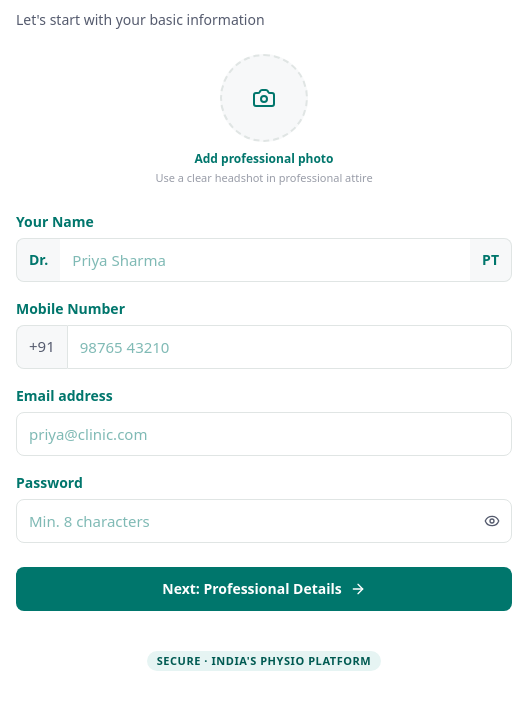
Test: DoctorSignupPage — v2 flag › step 1 Zod validation rejects empty name in v2 mode
The image size is (529, 711).
(page scrolled)
Click the button "Next: Professional Details": click(264, 588) x1=16 y1=566 x2=512 y2=610
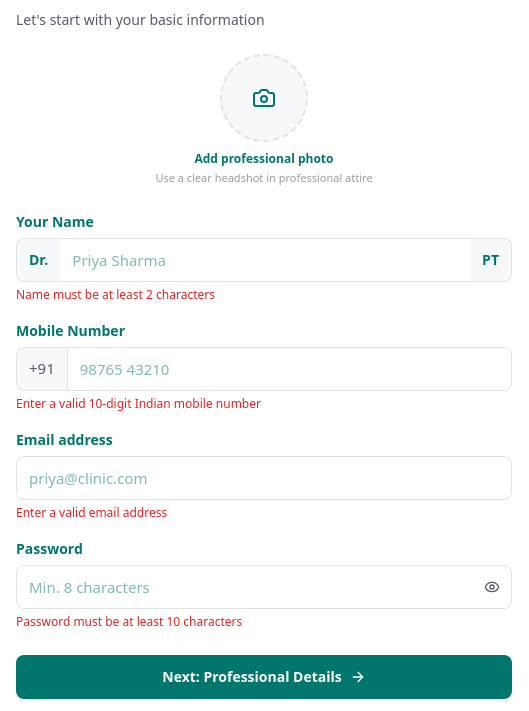
Result: the text "Name must be at least 2 characters" is shown at x1=16 y1=286 x2=215 y2=302
